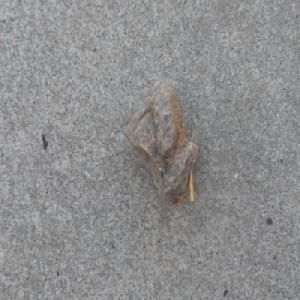Rock: (124, 79, 198, 206)
